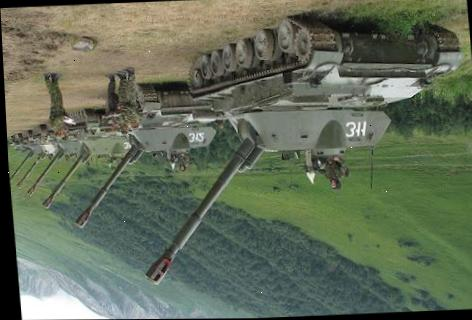person: (42, 68, 69, 144), (121, 66, 144, 133), (101, 73, 123, 133), (173, 153, 194, 174)
sau: (113, 1, 472, 293), (62, 78, 245, 244), (32, 103, 142, 210), (18, 114, 100, 204), (7, 119, 64, 199), (6, 116, 52, 188)
